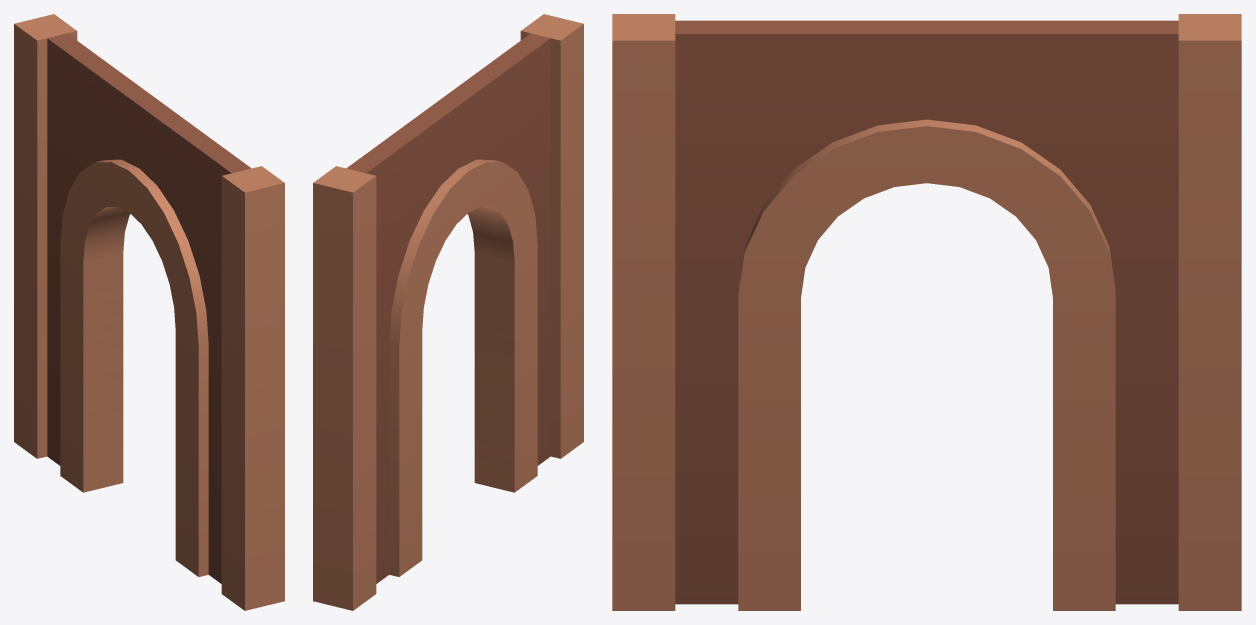
The model's file is wall-wood-door_lev1.glb.
3 views of the same model, side by side, from view 1: azimuth 30°, elevation 25°; view 2: azimuth 150°, elevation 25°; view 3: azimuth 270°, elevation 25° (orthographic). The views are drawn at different scales.
Parts seen in each view (by area): view 1: wall-wood-door_lev1; view 2: wall-wood-door_lev1; view 3: wall-wood-door_lev1.
Part boxes in pixels (x1=…): wall-wood-door_lev1: x1=14, y1=14, x2=284, y2=610; wall-wood-door_lev1: x1=313, y1=14, x2=583, y2=610; wall-wood-door_lev1: x1=612, y1=14, x2=1241, y2=610.
Size of the model in its own units: 0.4232 by 4.23 by 4.23.
Materials: 1 (1 with a texture image).
